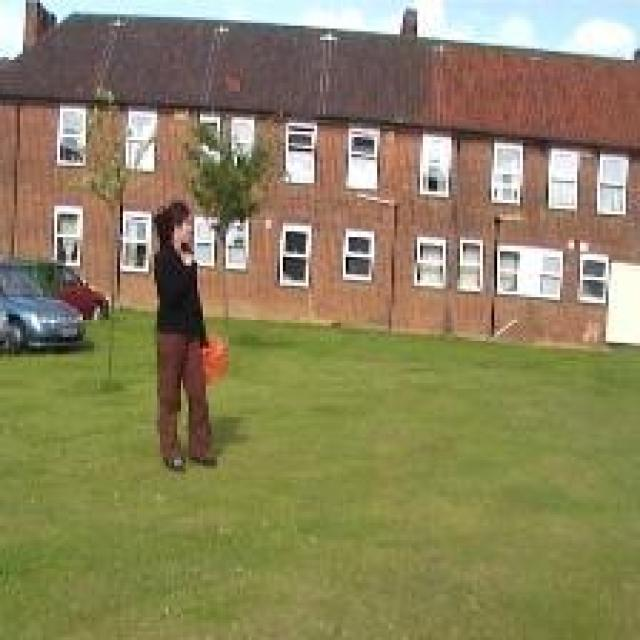other: (194, 328, 233, 384)
